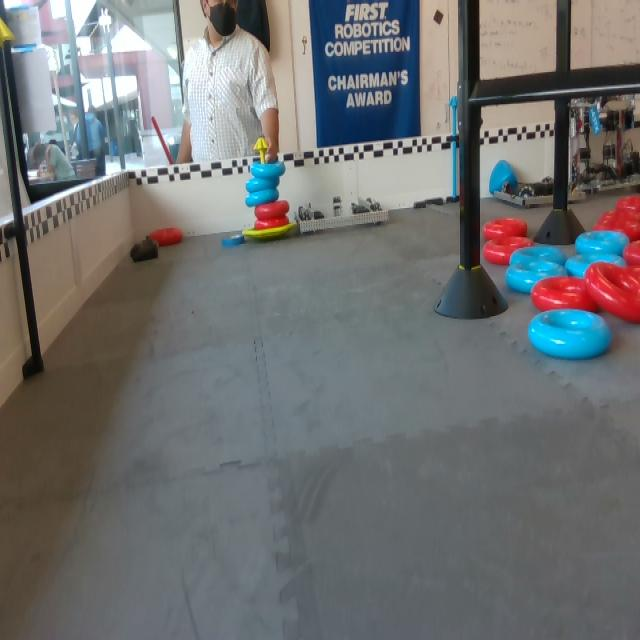Blue-Ring: (528, 310, 611, 359), (506, 261, 568, 291), (575, 229, 631, 255), (566, 254, 627, 277), (510, 245, 570, 264), (245, 188, 281, 208), (250, 161, 287, 179), (247, 176, 281, 190), (217, 234, 245, 247)
Red-Ring: (585, 262, 639, 324), (531, 276, 599, 313), (483, 238, 533, 264), (483, 218, 528, 243), (607, 207, 639, 233), (148, 226, 182, 247), (255, 201, 292, 219), (614, 193, 639, 214), (255, 217, 292, 230), (625, 241, 639, 267)
Yellow-Stake-Head: (0, 17, 16, 45), (254, 138, 268, 150)
zblue-Stake-Head: (448, 96, 458, 106)
